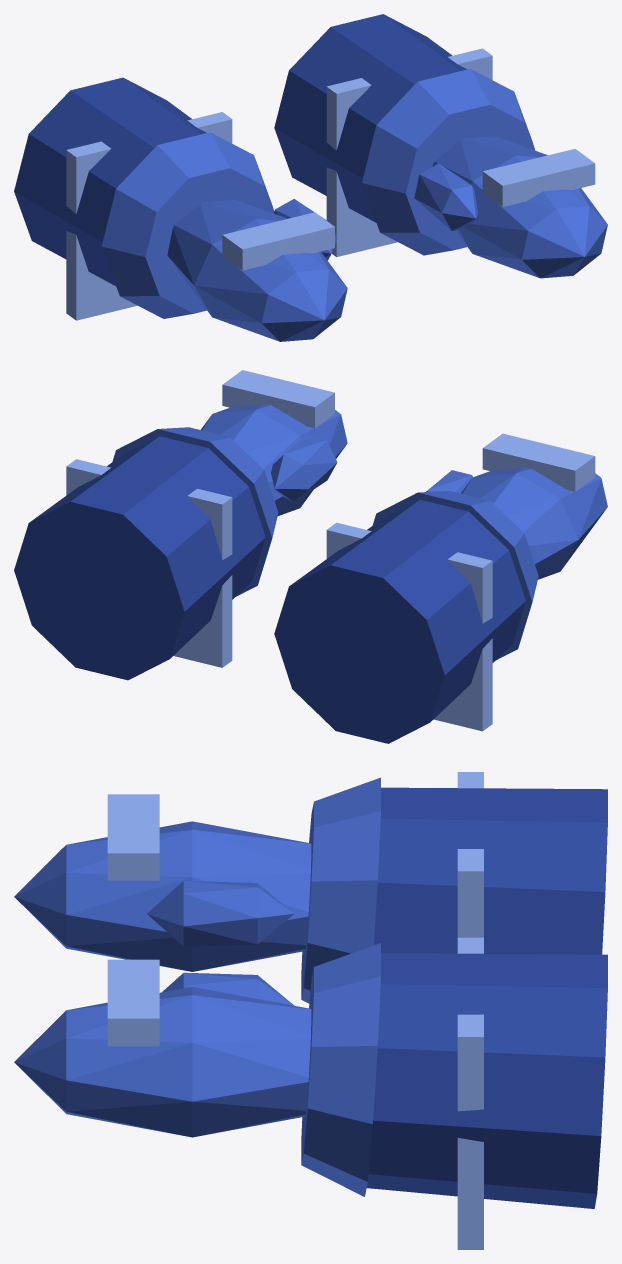
The model's file is drop_mithril_gauntlets.glb.
3 renders of one model, top to bottom at view 1: azimuth 30°, elevation 25°; view 2: azimuth 150°, elevation 25°; view 3: azimuth 270°, elevation 25°, orthographic. The views are drawn at different scales.
Parts seen in each view (by area): view 1: drop_mithril_gauntlets; view 2: drop_mithril_gauntlets; view 3: drop_mithril_gauntlets.
Part boxes in pixels (x1,y1,x2,y2): drop_mithril_gauntlets: [14, 14, 607, 341]; drop_mithril_gauntlets: [14, 370, 607, 743]; drop_mithril_gauntlets: [14, 772, 607, 1249].
Size of the model in its own units: 0.2384 by 0.0976 by 0.2184.
